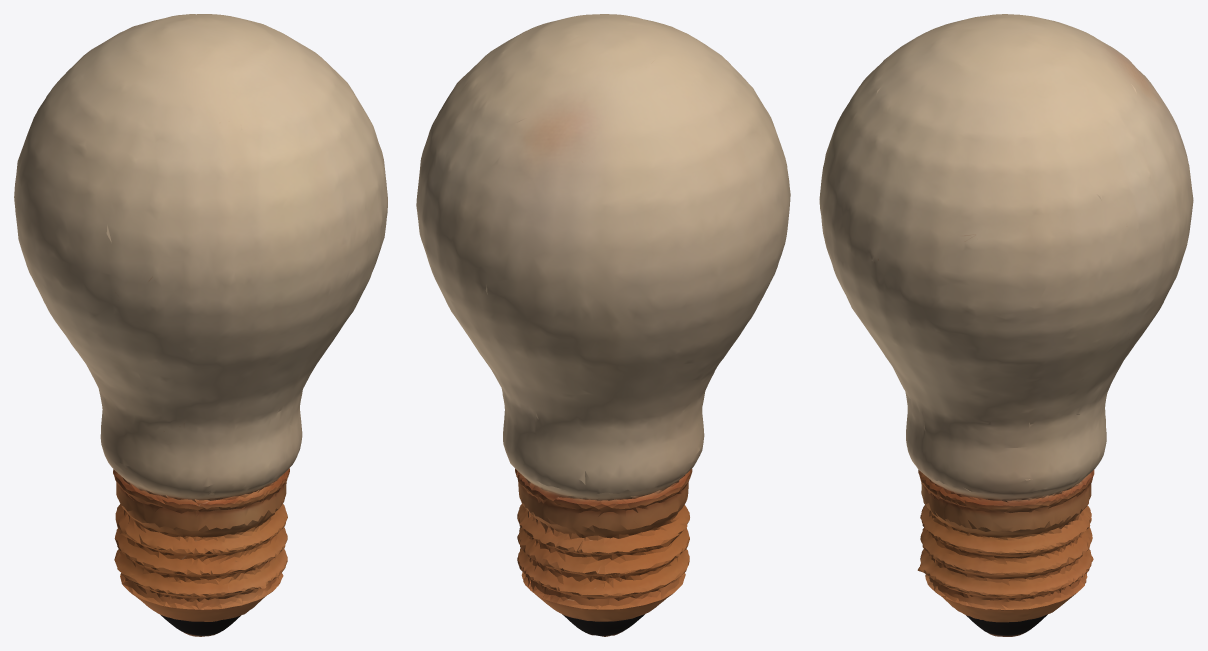
File: lightbulb.glb
3 renders of one model, left to right at view 1: azimuth 30°, elevation 25°; view 2: azimuth 150°, elevation 25°; view 3: azimuth 270°, elevation 25°, orthographic.
Visible parts, largest first — view 1: Cartoon_Lightbulb; view 2: Cartoon_Lightbulb; view 3: Cartoon_Lightbulb.
Boxes of the visible parts, x1,y1,x2,y2 form: Cartoon_Lightbulb: [14, 14, 387, 636]; Cartoon_Lightbulb: [416, 14, 790, 636]; Cartoon_Lightbulb: [819, 14, 1193, 636].
Size of the model in its own units: 1.08 by 1.9 by 1.08.
Materials: 1 (1 with a texture image).
